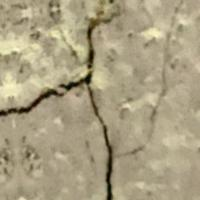crack: (1, 0, 127, 199)
